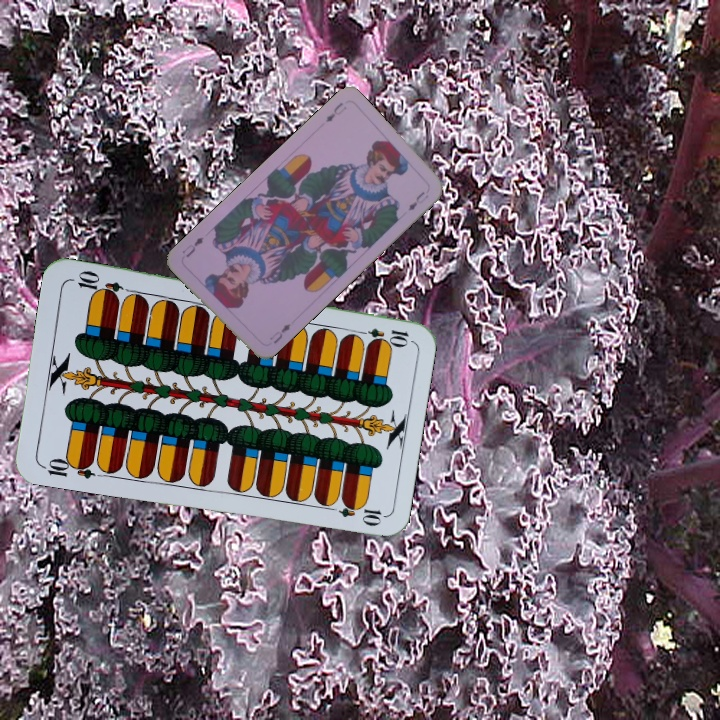E10: (37, 453, 96, 481), (352, 324, 412, 346)
EU: (265, 319, 293, 346), (321, 98, 346, 125)
